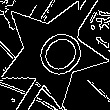O_SW: (19, 19, 85, 86)
